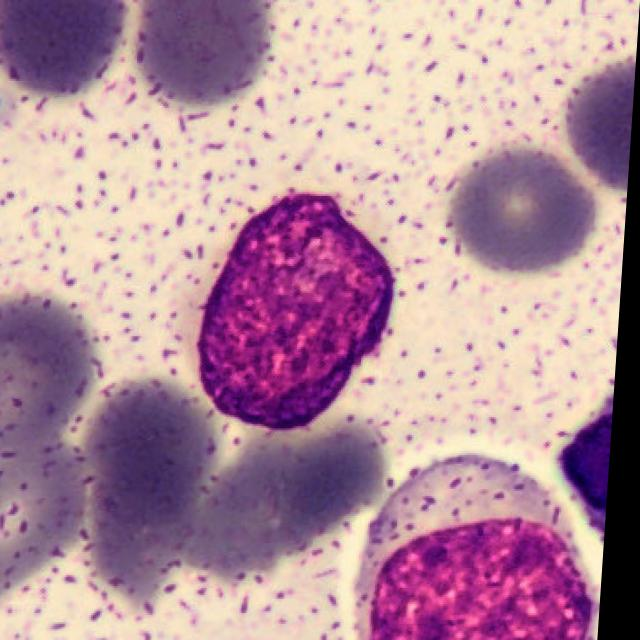Restos celulares: (200, 194, 400, 430)
